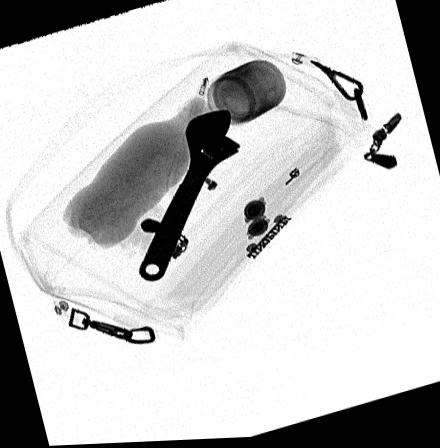Wrench: (139, 112, 239, 281)
